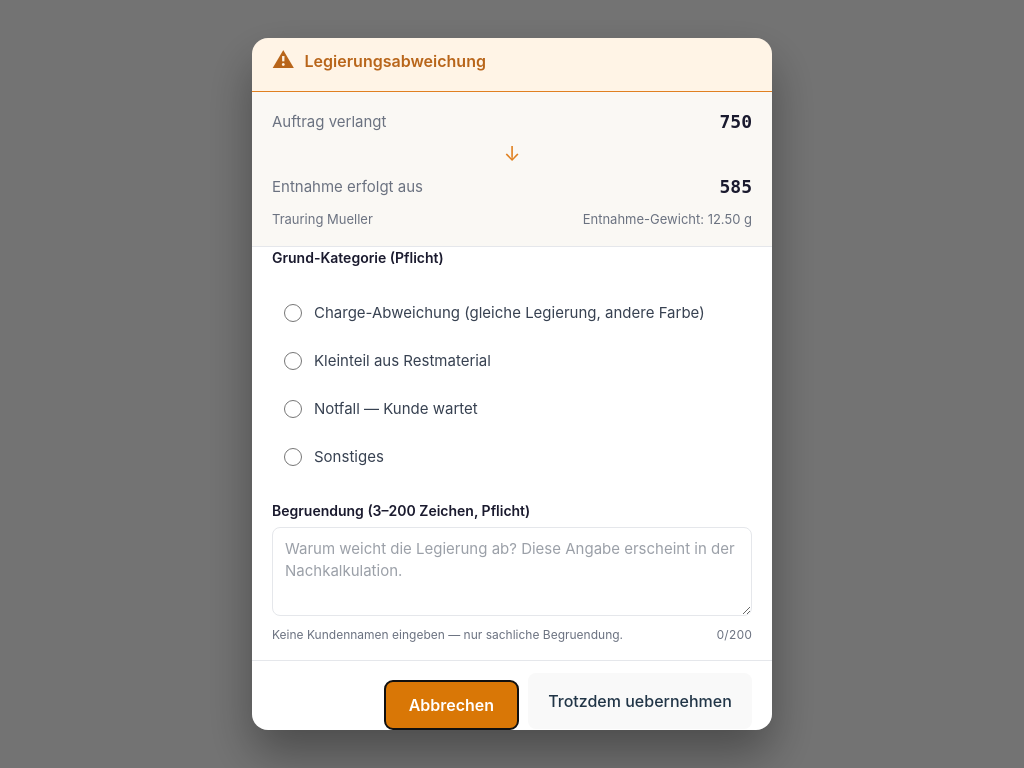
it: AlloyMismatchModal validation › shows PII warning when a single alphabetic token exceeds 15 chars
Click the radio button labelled "Sonstiges". click: click(293, 457)
box: 284,448 -> 302,466
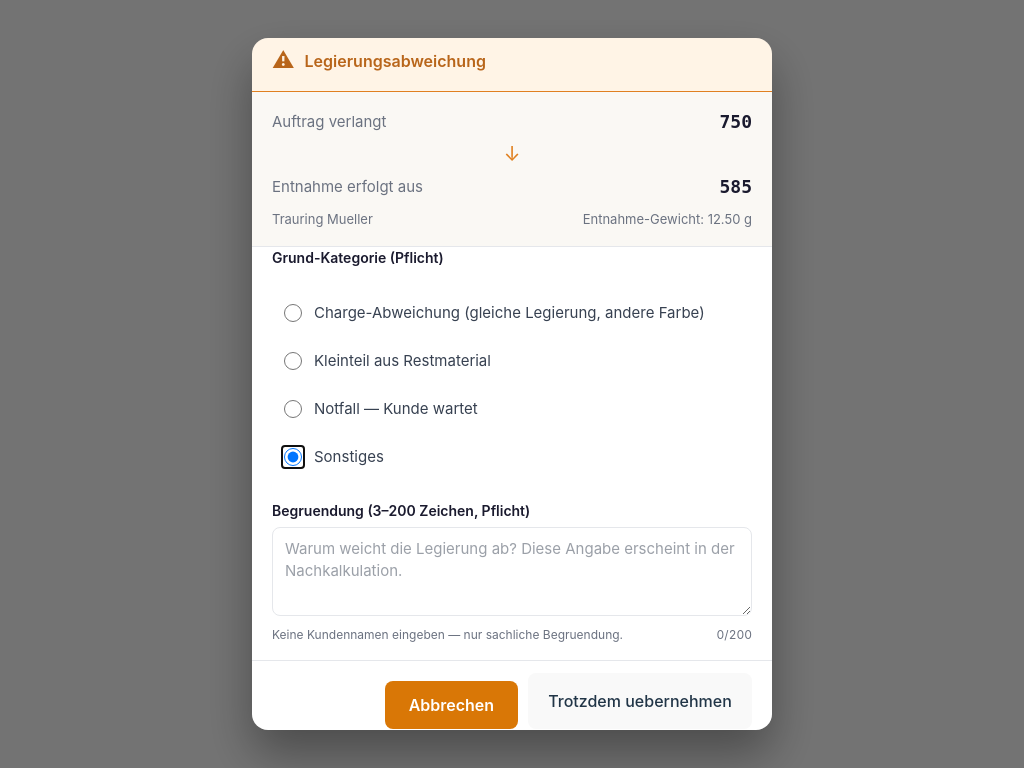
Type "Überlangeeingabetokenname" into the text box with test id "alloy-reason-textarea". click: (512, 572)
box: 272,527 -> 752,616
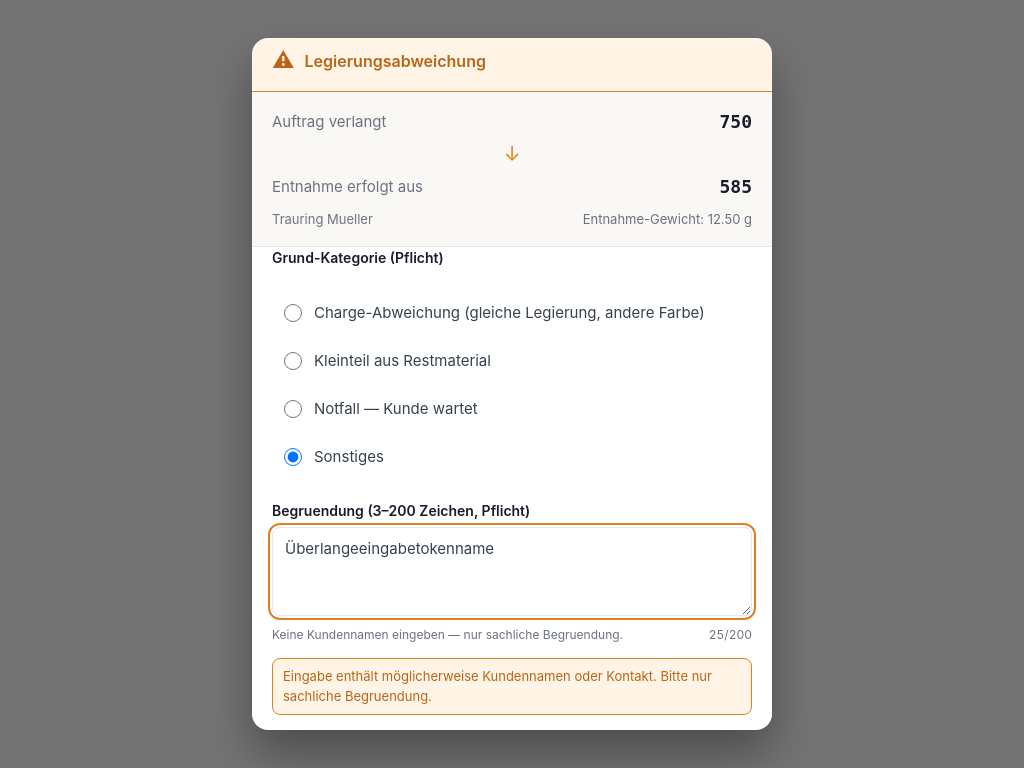
Check: the message with test id "alloy-pii-warn" is shown, box 272,658 -> 752,715
